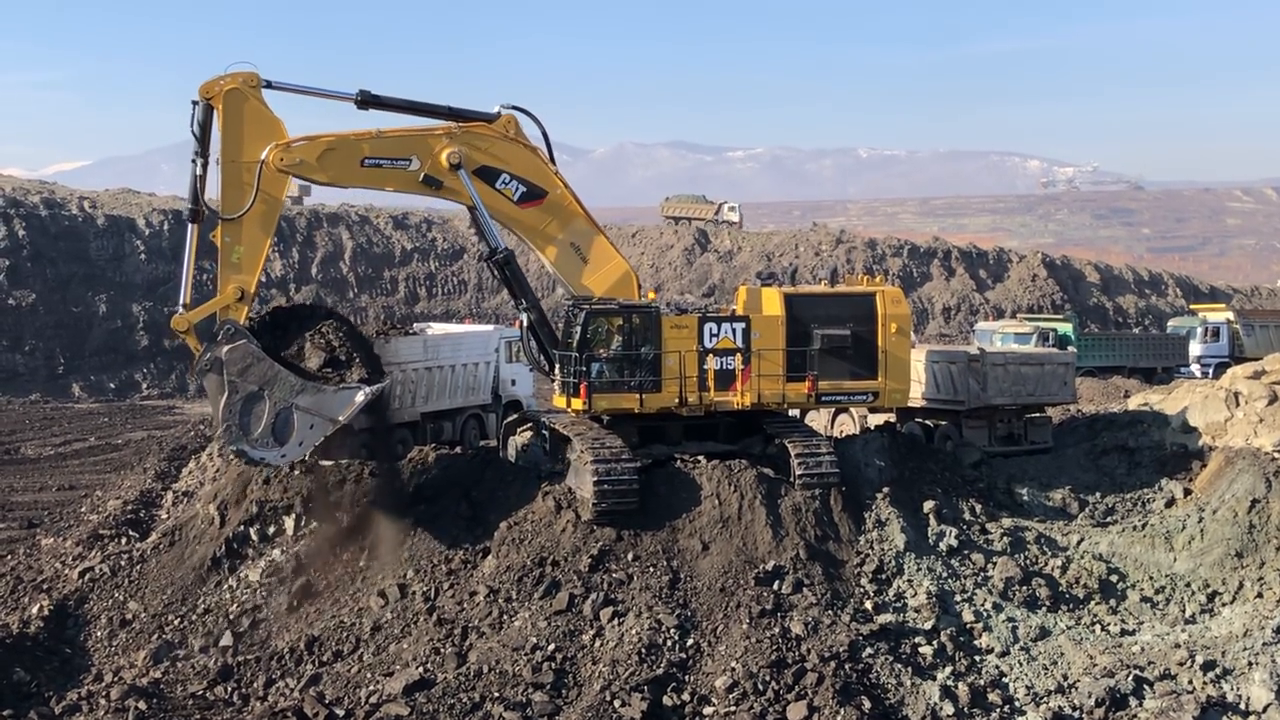full: (173, 300, 396, 473)
